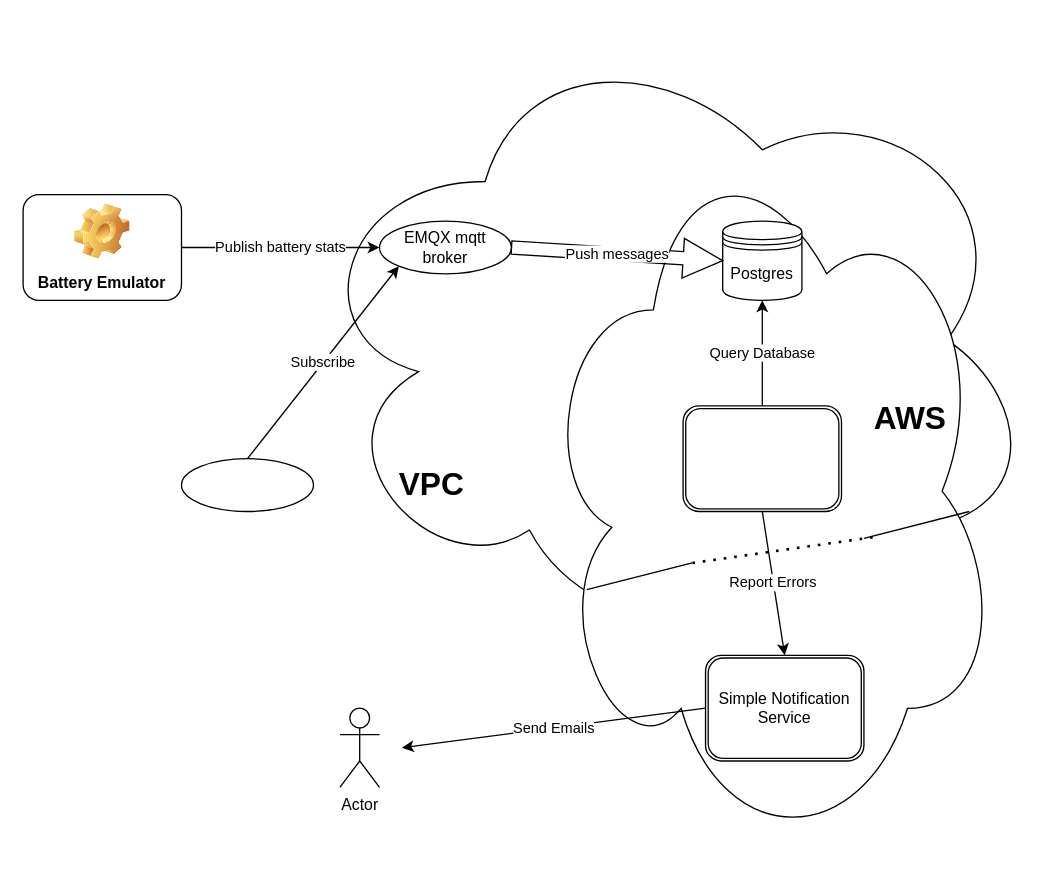
The diagram is 1063 pixels wide and 876 high, and some of its shapes have lost their labels. The box of each missing label's shape, as (x1, y1, x2, y2) in pixels:
Display Graphs in Grafana: (682, 405, 842, 512)
mqtt client: (180, 457, 314, 512)
